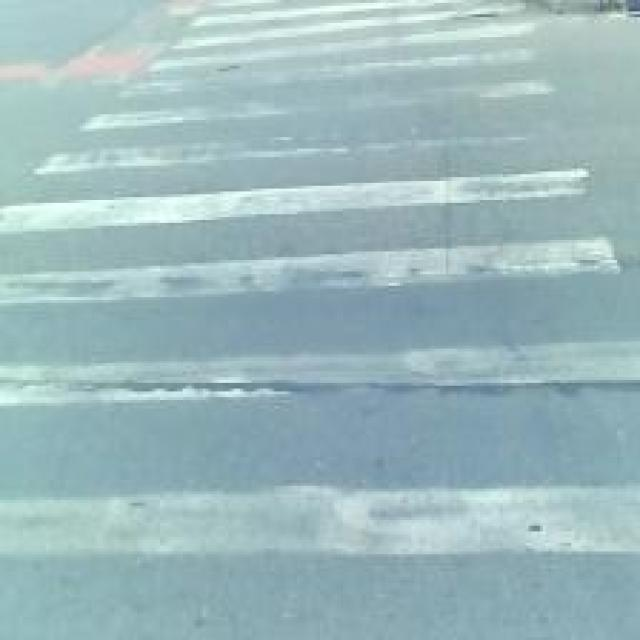walk-crossing: (63, 20, 592, 640)
